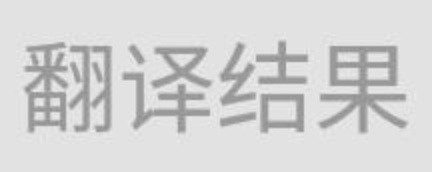TextView: (1, 1, 431, 171)
